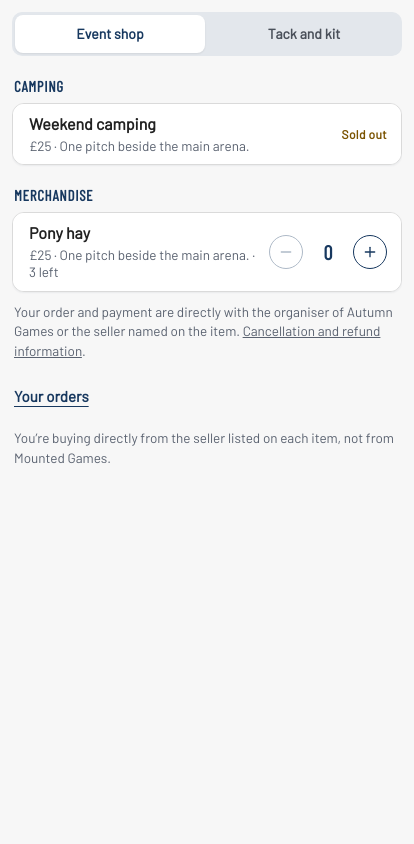
Scenario: EventShopPage › marks sold-out items and lets the quantity stepper change the basket
Expected: the text "Sold out" is shown, x1=342 y1=128 x2=387 y2=140
Click the button named "Add one Pony hay".
click(370, 252)  # box x1=353 y1=235 x2=387 y2=269
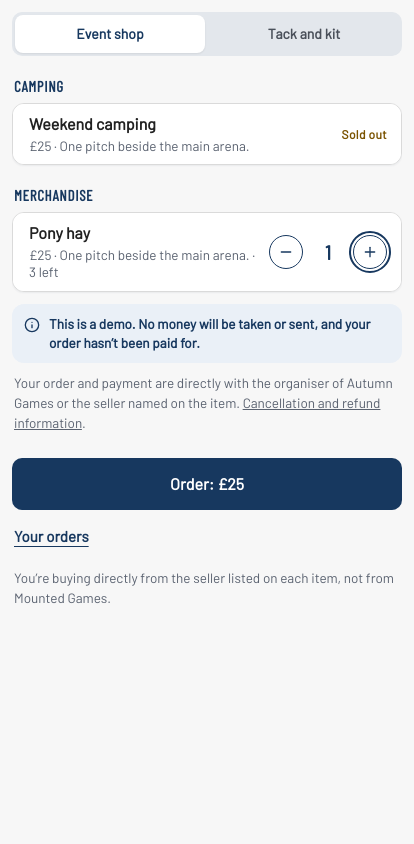
Click the button named "Add one Pony hay".
click(370, 252)  # box x1=353 y1=235 x2=387 y2=269
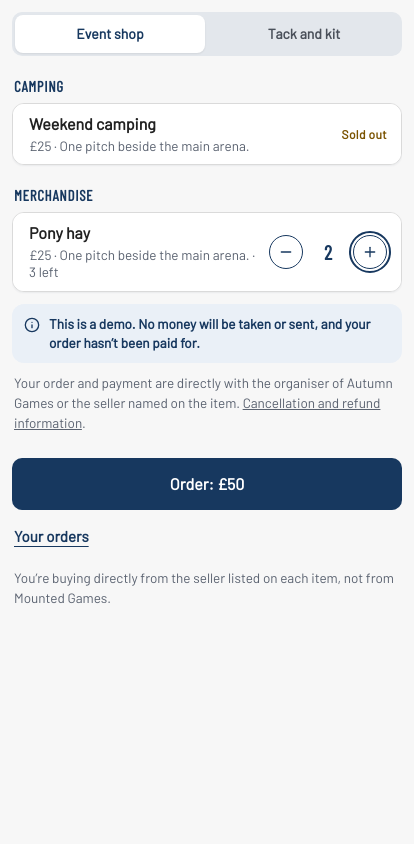
Expected: the button "Order: £50" is shown, x1=12 y1=458 x2=402 y2=510
Click the button named "Remove one Pony hay".
click(286, 252)  # box x1=269 y1=235 x2=303 y2=269
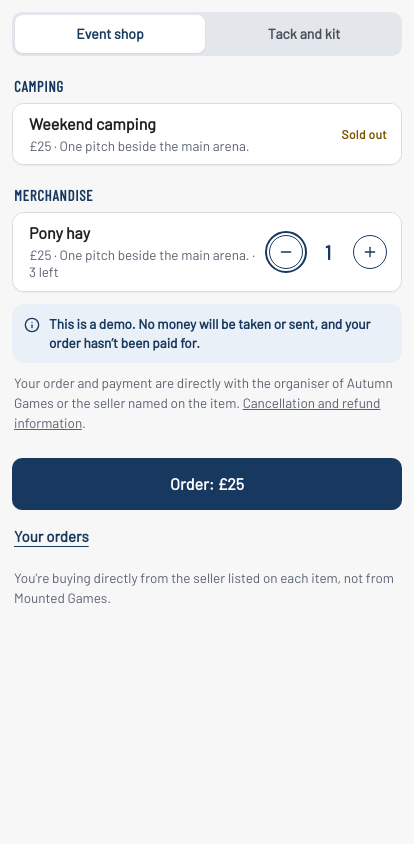
Click the button named "Remove one Pony hay".
click(286, 252)  # box x1=269 y1=235 x2=303 y2=269
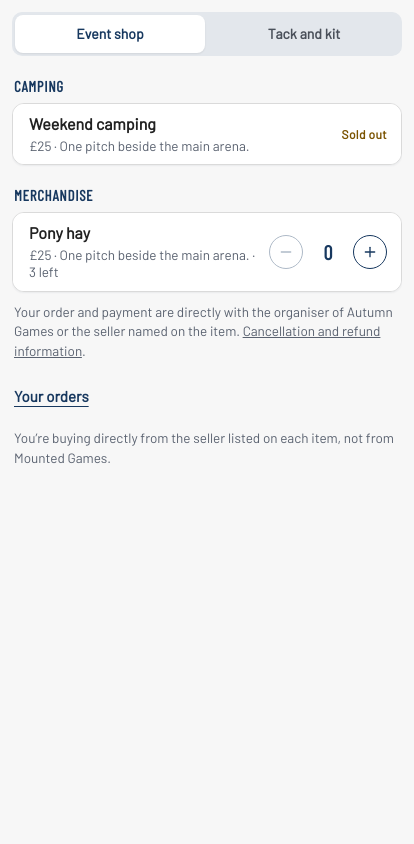
Expected: the button "Order:" is gone
